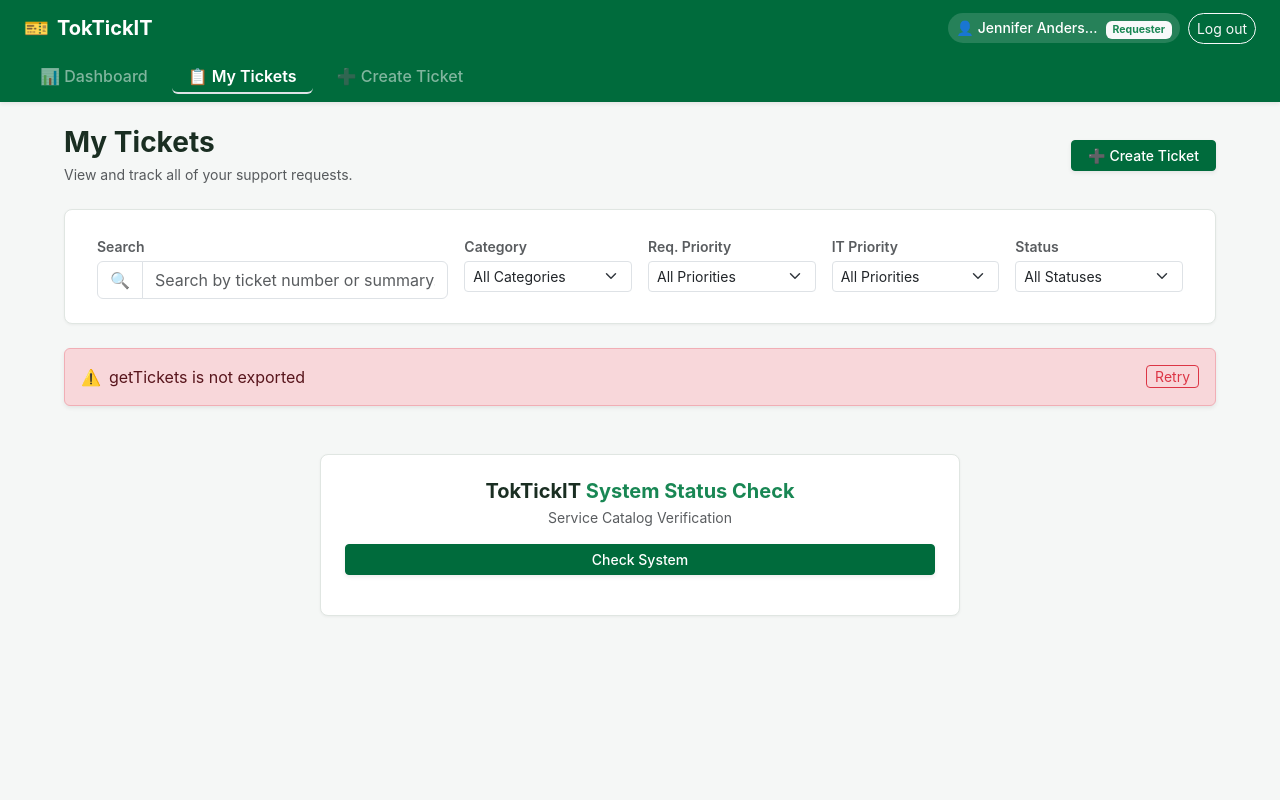
Test: App › shows an Offline error message when the API is unavailable
Click the button "Check System" at (640, 559), box [345,544,935,575]
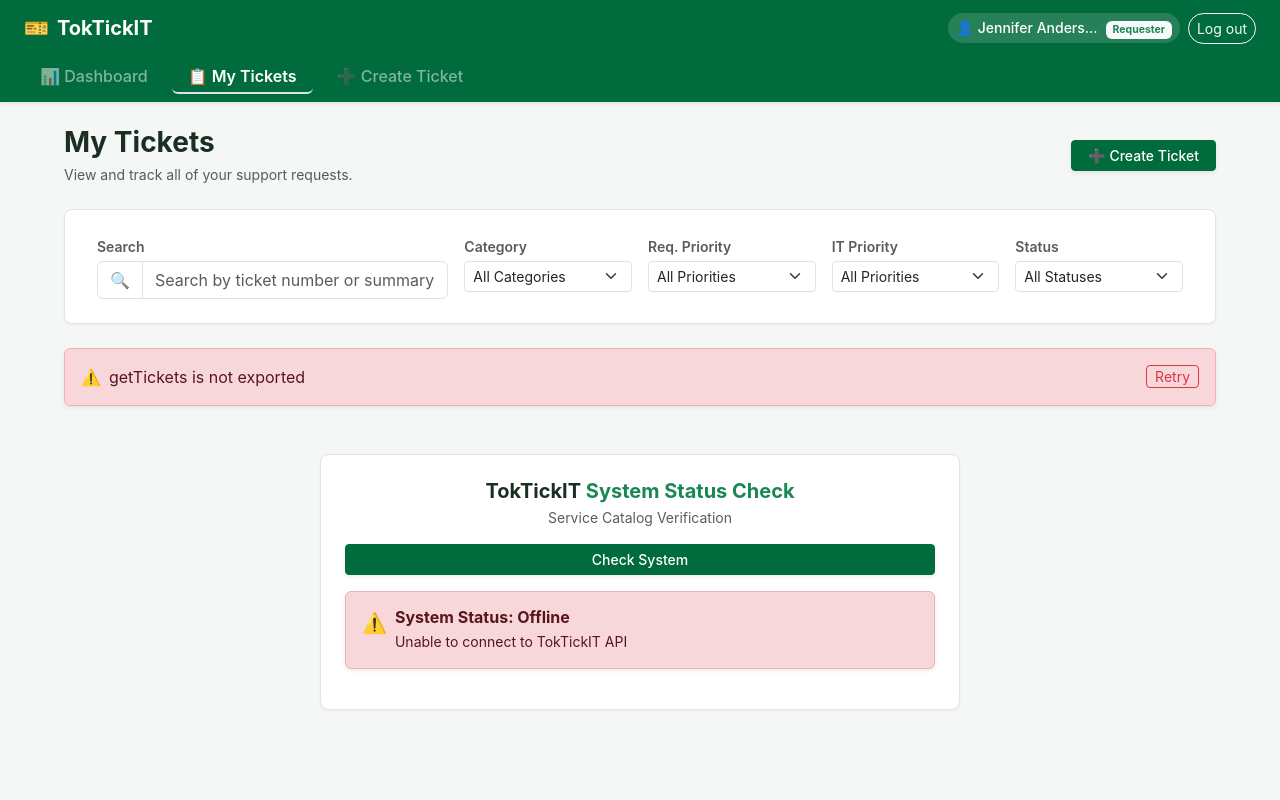
Expected: the heading "System Status: Offline" is shown, [395,607,570,627]
Expected: the text "Unable to connect to TokTickIT API" is shown, [395,631,627,652]
